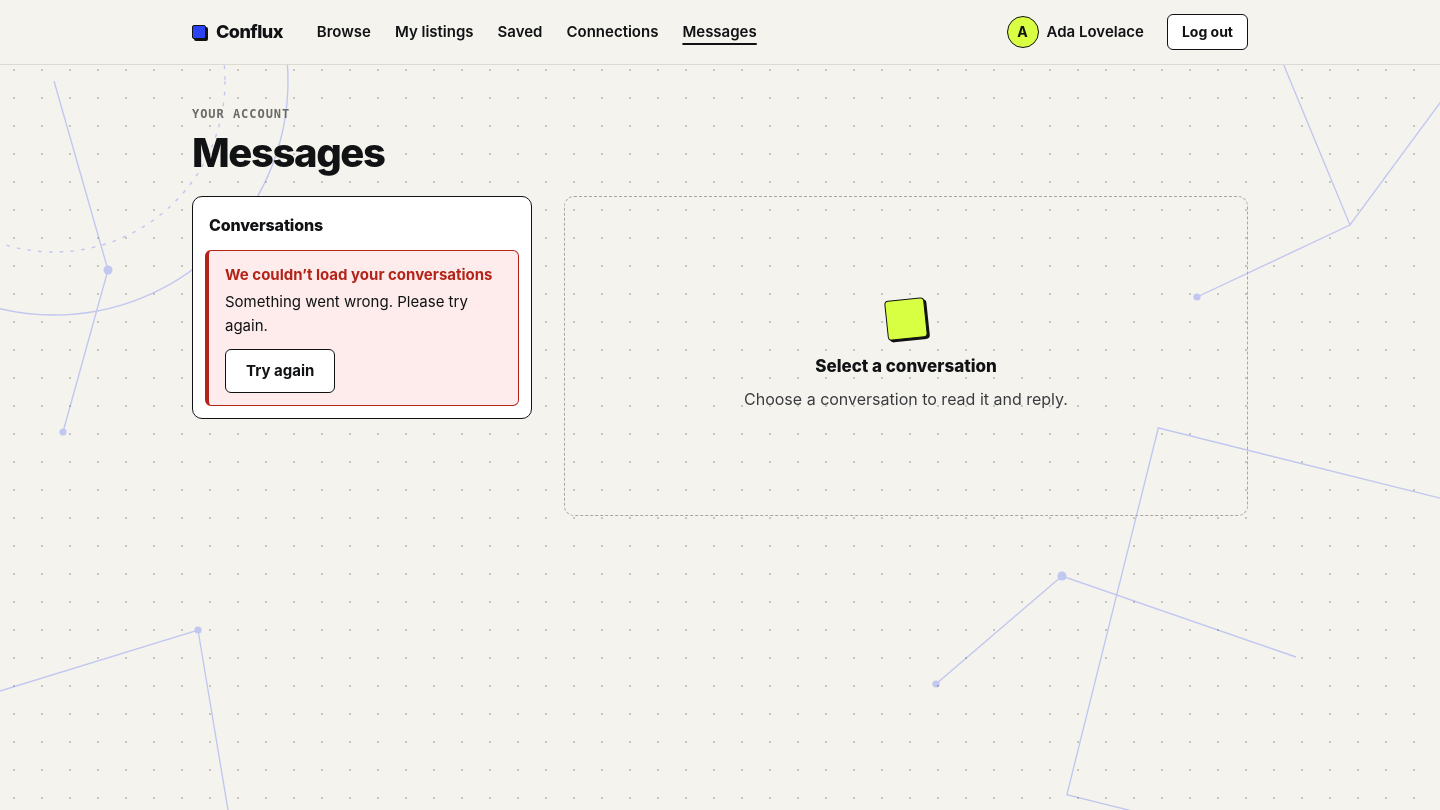
Test: Conversations list › shows an error without backend details, with a working retry
Expected: the message shows "We couldn’t load your conversations", left=225, top=265, right=492, bottom=284
Click the button "Try again".
click(280, 371)  # box left=225, top=349, right=335, bottom=393
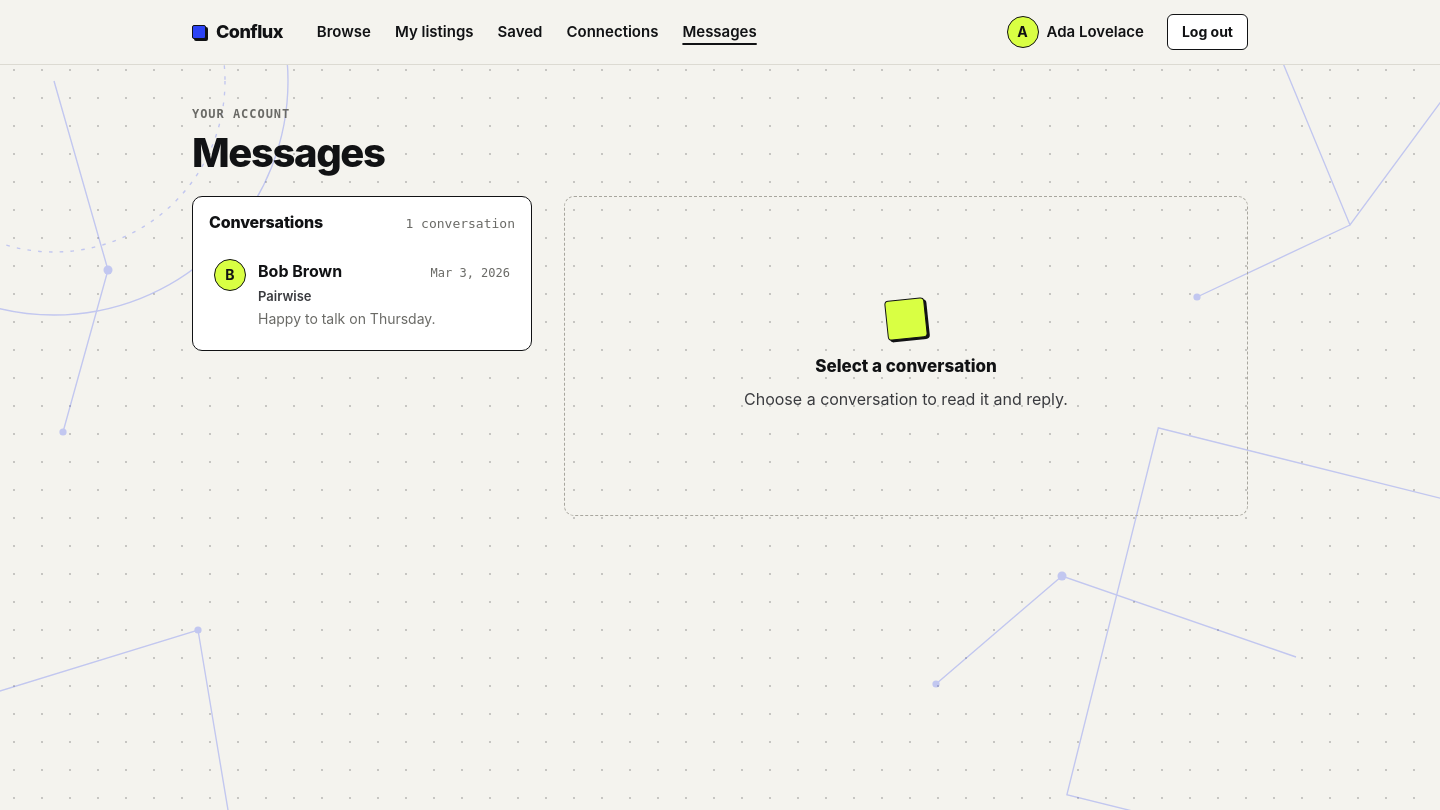
Expected: the link with aria-label "Bob Brown, Pairwise" is shown, left=201, top=246, right=523, bottom=342
